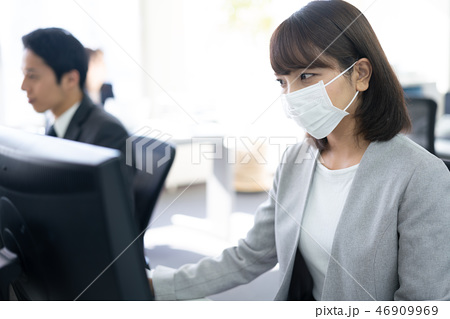mask: (282, 84, 341, 145)
